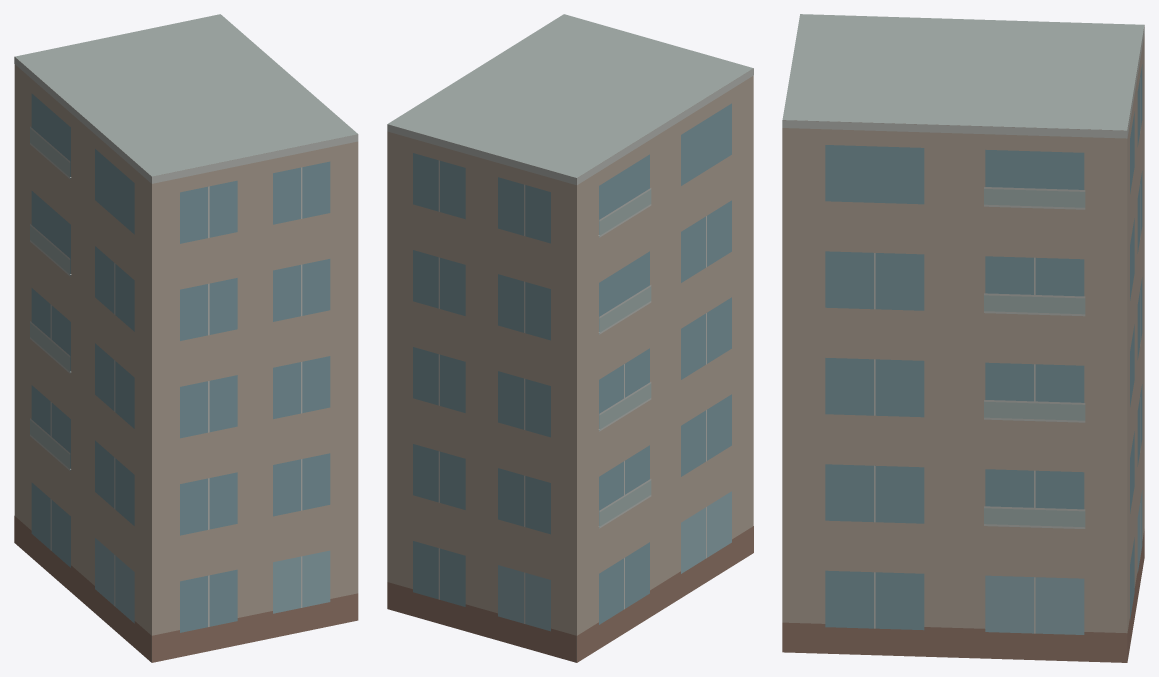
Rendered from survey-upis-32511474.glb.
3 views of the same model, side by side, from view 1: azimuth 30°, elevation 25°; view 2: azimuth 150°, elevation 25°; view 3: azimuth 270°, elevation 25° (orthographic). The views are drawn at different scales.
Parts seen in each view (by area): view 1: survey-upis-32511474.tmp; view 2: survey-upis-32511474.tmp; view 3: survey-upis-32511474.tmp.
Part boxes in pixels (left/top/right/bottom): survey-upis-32511474.tmp: left=14, top=14, right=358, bottom=662; survey-upis-32511474.tmp: left=387, top=14, right=753, bottom=662; survey-upis-32511474.tmp: left=782, top=14, right=1144, bottom=662.
Bounding box in the file's own units: 7.66 × 16.3 × 10.06.
